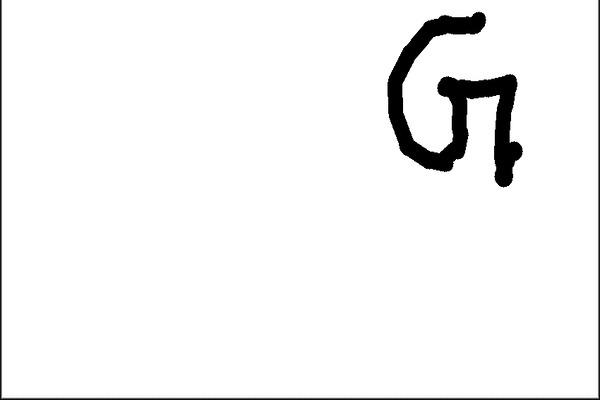G: (383, 6, 524, 189)
